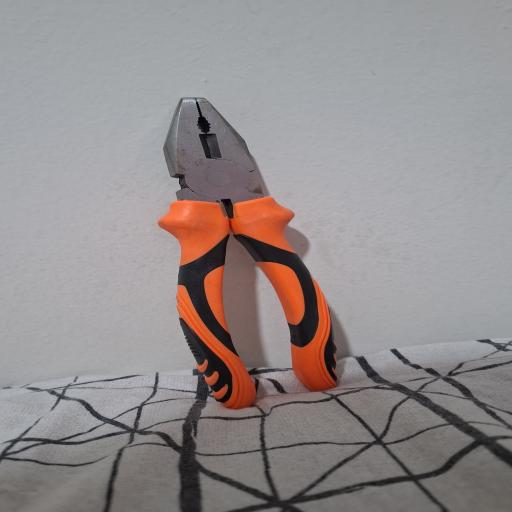alicate: (152, 94, 349, 411)
